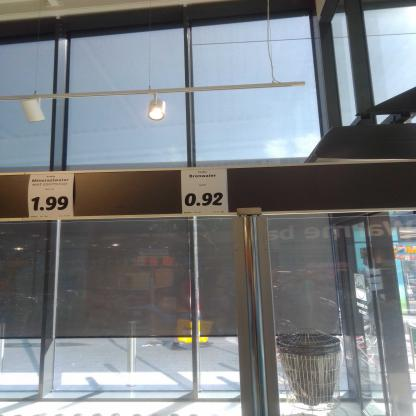prtg: (182, 169, 229, 215), (29, 174, 76, 218)
